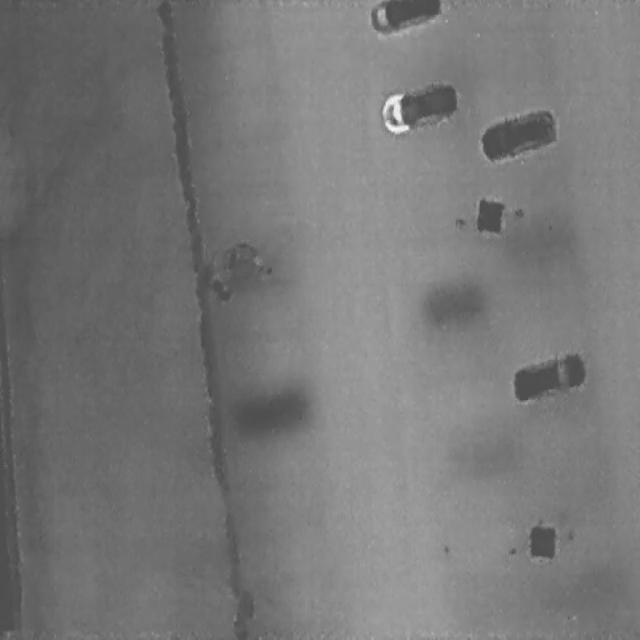Car: (475, 98, 559, 164), (377, 75, 459, 137), (508, 344, 589, 406), (370, 0, 443, 35)
